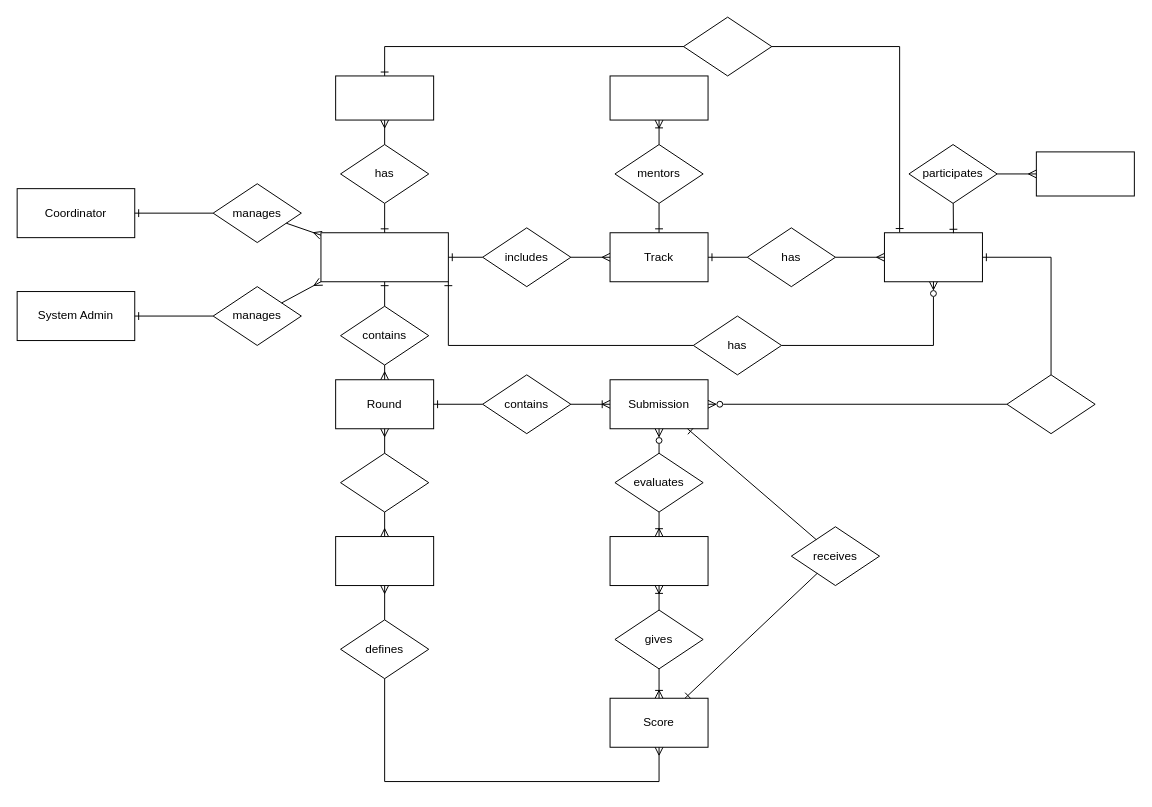
Some shapes in this 1152 by 807 pixel diagram are drawn without their labels. The shapes that lost their labels are listed below. From the top down, each one's box as (x1, y1, x2, y2) in pixels, then its label:
(683, 16, 772, 76): awards
(335, 75, 434, 120): Prize
(609, 75, 708, 120): Mentor
(1035, 151, 1134, 196): Participant
(320, 232, 448, 282): HackathonEvent
(883, 232, 982, 282): Team
(1006, 374, 1095, 434): submits
(340, 452, 429, 512): uses
(335, 536, 434, 586): Scoring Criteria
(609, 536, 708, 586): Judge
